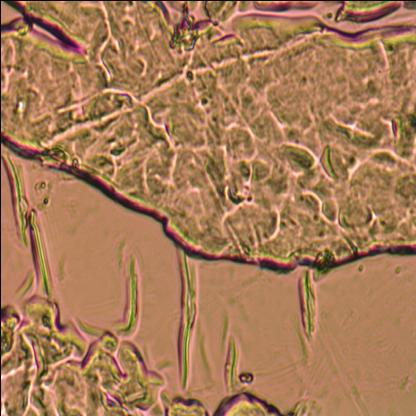Stage I: (0, 0, 416, 262)
